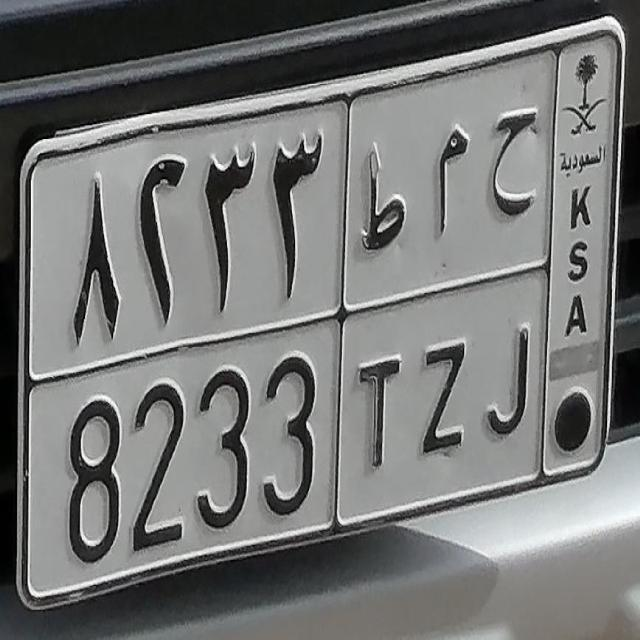license_plate: (21, 17, 622, 614)
